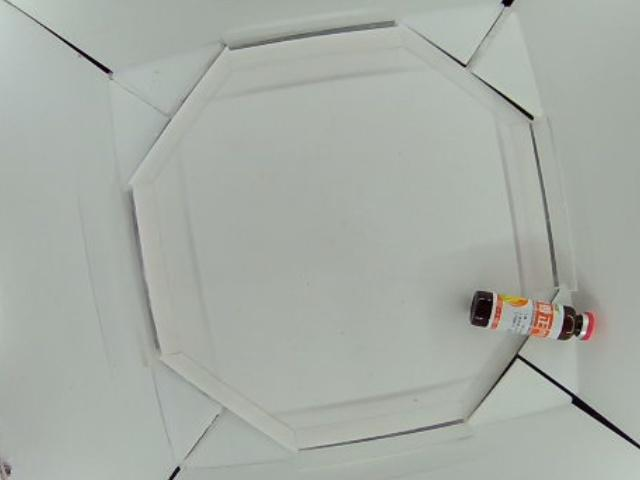Medicine: (471, 287, 596, 344)
